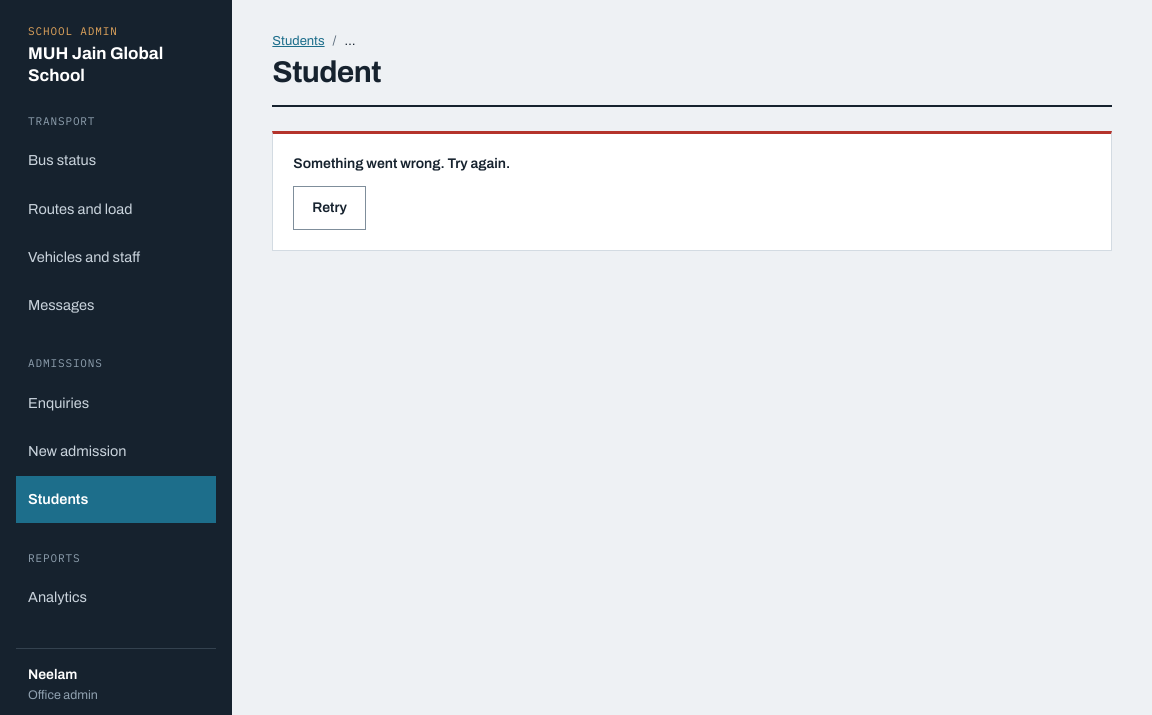
Scenario: One student: the four states › shows an error with Retry
Expected: the message shows "Something went wrong", [293, 156, 510, 171]
Click the button "Retry" at (330, 208), box [293, 186, 366, 230]
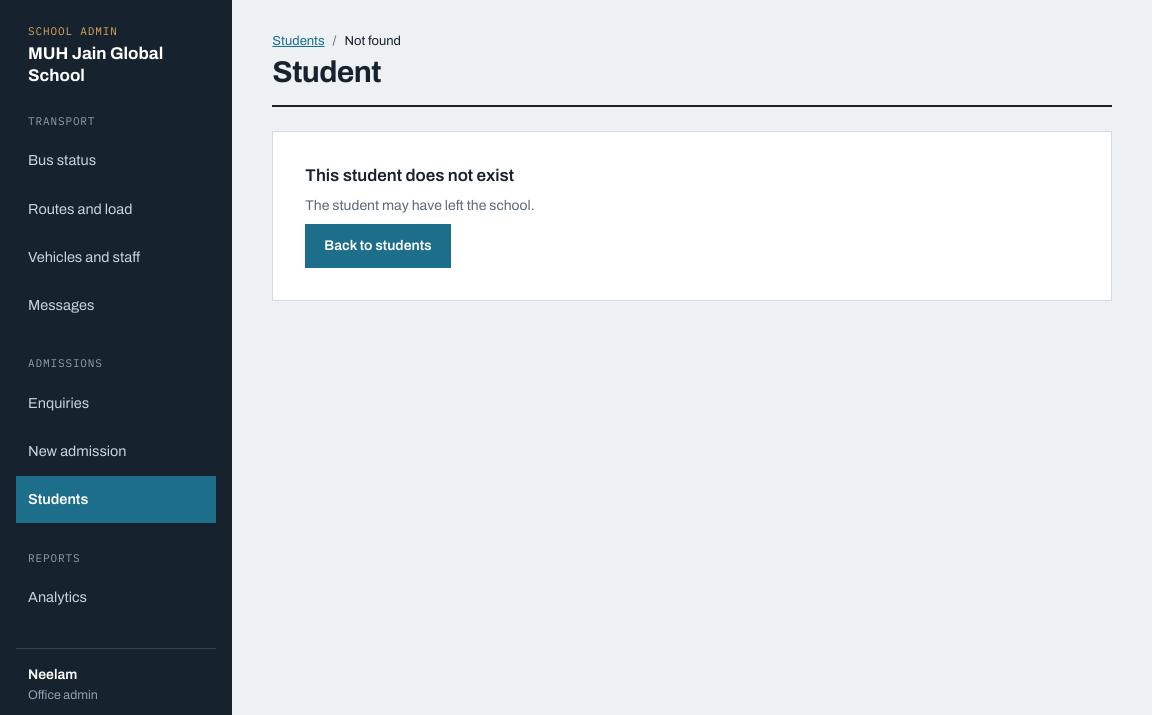
Expected: the text "This student does not exist" is shown, [305, 164, 514, 188]
